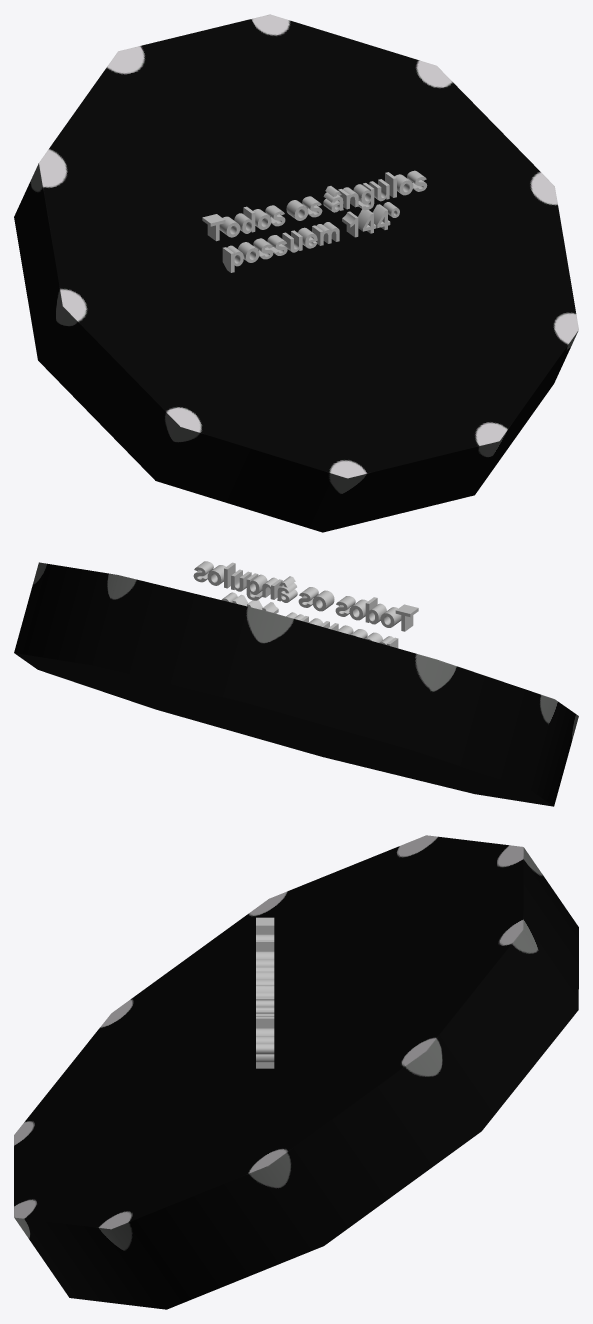
Rendered from pergunta27Obj.fbx.
3 renders of one model, top to bottom at view 1: azimuth 30°, elevation 25°; view 2: azimuth 150°, elevation 25°; view 3: azimuth 270°, elevation 25°, orthographic. The views are drawn at different scales.
Parts seen in each view (by area): view 1: root, node_id36 (×2); view 2: root, node_id36 (×2); view 3: root, node_id36.
Part boxes in pixels (x1,y1,x2,y2): root: (14, 14, 578, 532); node_id36 (×2): (202, 170, 427, 272); root: (14, 562, 578, 806); node_id36 (×2): (193, 561, 418, 648); root: (14, 835, 578, 1309); node_id36: (256, 917, 274, 1054).
Bounding box in the file's own units: 0.604 × 0.3891 × 0.5406.
3 materials, 1 textured.
